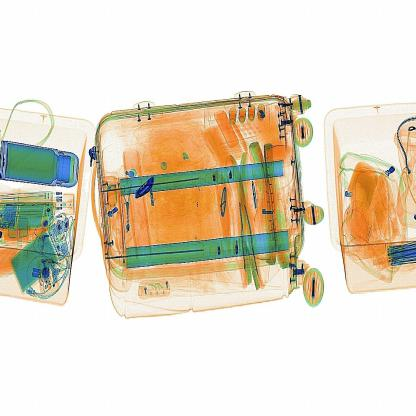knife: (132, 171, 163, 204)
